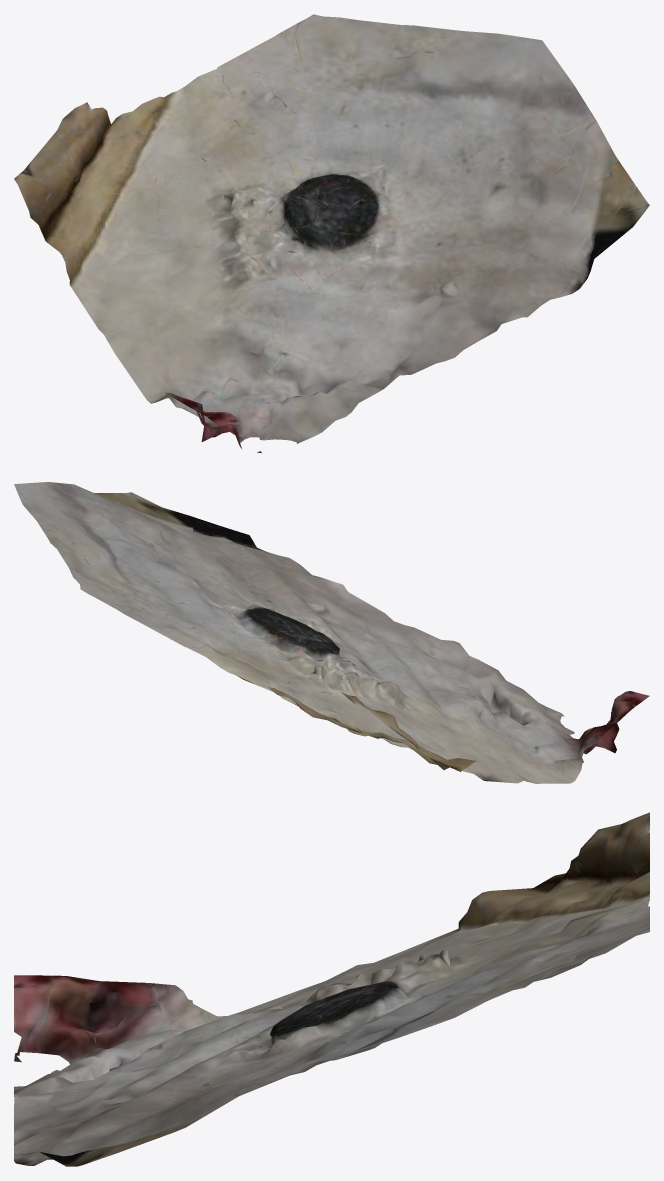
File: hall.glb
3 renders of one model, top to bottom at view 1: azimuth 30°, elevation 25°; view 2: azimuth 150°, elevation 25°; view 3: azimuth 270°, elevation 25°, orthographic. The views are drawn at different scales.
Bounding box in the file's own units: 2.01 × 0.9185 × 1.65.
Materials: 1 (1 with a texture image).
